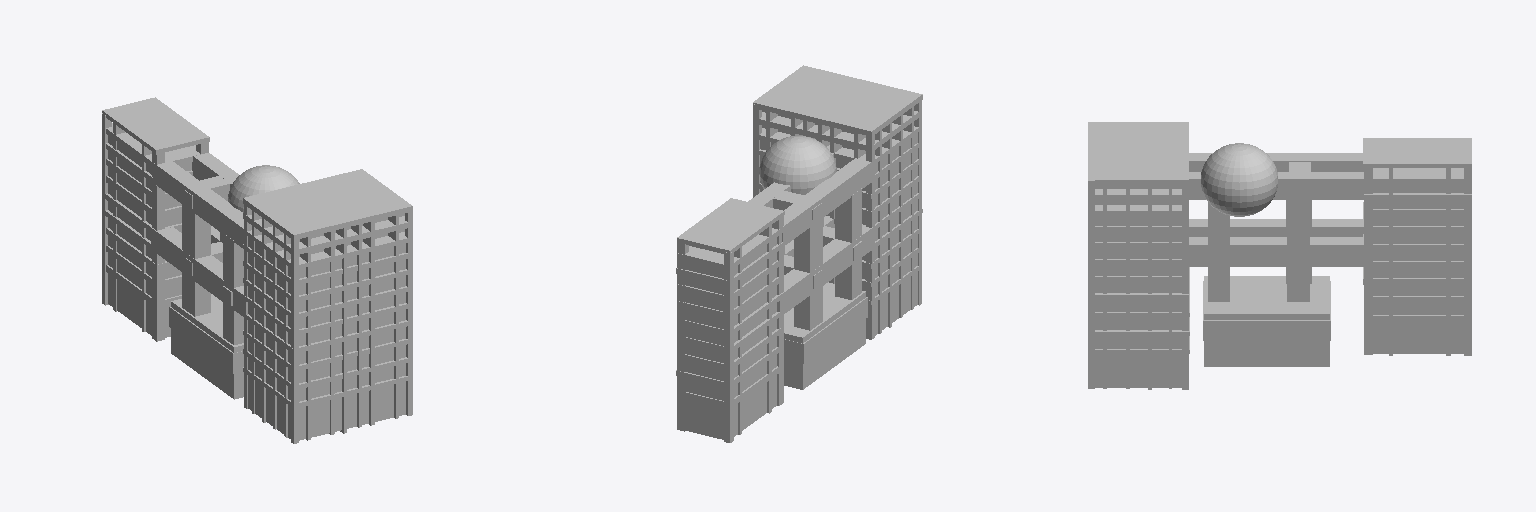
File: fujitv.obj
3 views of the same model, side by side, from view 1: azimuth 30°, elevation 25°; view 2: azimuth 150°, elevation 25°; view 3: azimuth 270°, elevation 25° (orthographic).
Parts seen in each view (by area): view 1: Cube; view 2: Cube; view 3: Cube.
Boxes of the visible parts, box(x1,y1,x2,y2) form: Cube: box(102, 97, 412, 443); Cube: box(676, 65, 922, 442); Cube: box(1088, 122, 1471, 389).
Size of the model in its own units: 6.92 by 11.39 by 18.84.